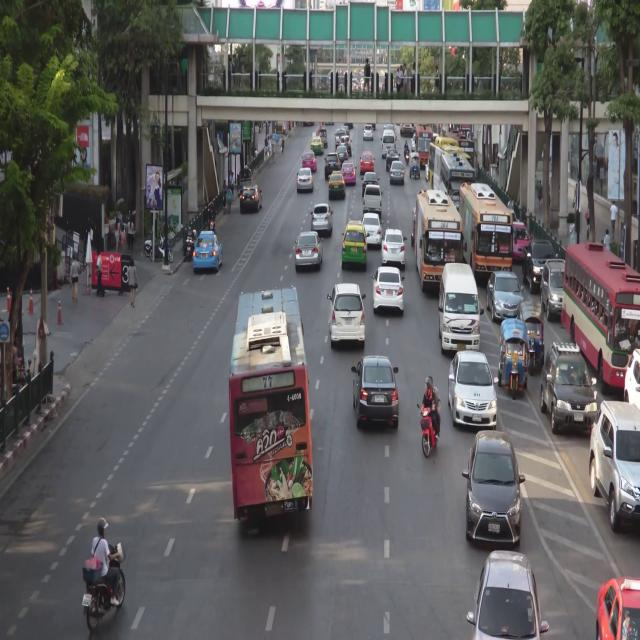bus: (232, 295, 314, 526), (564, 241, 640, 388), (459, 183, 511, 290), (417, 194, 463, 292), (435, 147, 474, 229), (431, 140, 474, 213), (414, 125, 431, 167)
car: (472, 551, 543, 640), (468, 432, 521, 545), (593, 400, 640, 524), (542, 344, 595, 437), (439, 265, 481, 355), (449, 353, 498, 430), (353, 354, 400, 430), (331, 284, 365, 346), (518, 299, 546, 371), (523, 239, 558, 294), (501, 319, 526, 395), (371, 266, 403, 317), (488, 269, 518, 318), (543, 258, 565, 319), (294, 235, 323, 270), (383, 228, 406, 267), (310, 206, 333, 235), (363, 185, 384, 216), (362, 211, 381, 244), (240, 182, 261, 211), (382, 129, 397, 159), (297, 167, 313, 192), (390, 160, 406, 184), (363, 172, 379, 194), (326, 150, 339, 176), (387, 149, 400, 171), (410, 153, 421, 179), (340, 136, 353, 155), (335, 130, 348, 147), (337, 145, 348, 161), (363, 124, 373, 141), (320, 129, 328, 148), (341, 125, 350, 138)
pedestrian: (69, 255, 80, 307), (128, 258, 138, 308), (94, 249, 103, 294), (12, 339, 20, 378), (611, 200, 617, 239), (128, 214, 134, 250), (114, 216, 120, 251), (586, 201, 592, 235), (222, 177, 228, 207), (227, 183, 233, 213), (537, 179, 543, 208), (604, 229, 611, 252), (229, 170, 234, 196), (574, 182, 578, 209), (121, 224, 125, 250), (281, 138, 285, 154), (272, 144, 275, 164), (265, 135, 268, 154), (268, 136, 271, 154)
taxi: (596, 579, 640, 640), (193, 231, 222, 275), (343, 221, 367, 268), (512, 218, 532, 259), (328, 170, 346, 198), (311, 135, 324, 157), (361, 149, 374, 171), (342, 164, 356, 184), (303, 151, 317, 170)
